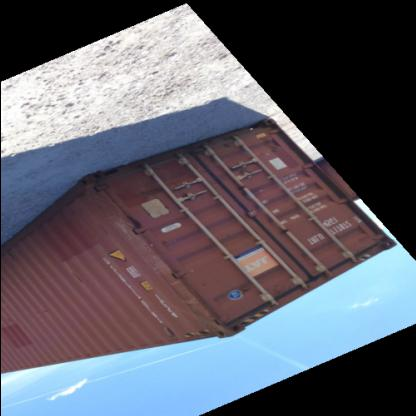Damage: (90, 195, 153, 253), (141, 253, 199, 303), (192, 306, 230, 338)
